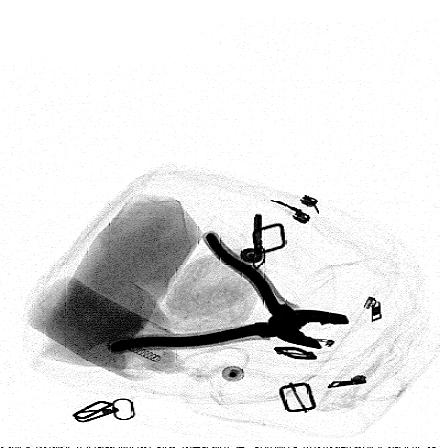Pliers: (106, 231, 349, 355)
